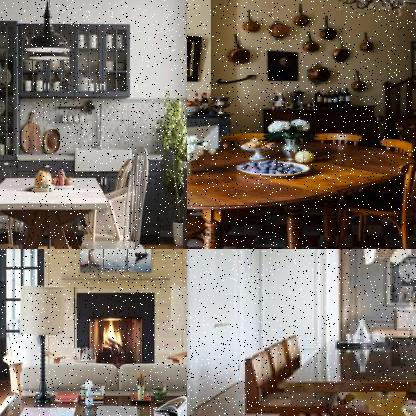table: (187, 141, 415, 248), (276, 327, 415, 415), (0, 173, 112, 248)
